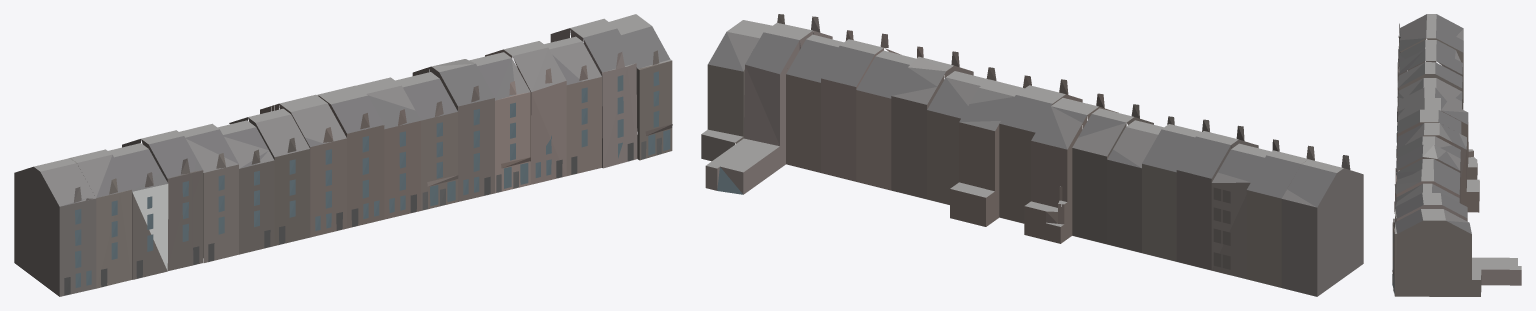
Rendered from chunk-face-hasebroek-2-46-r1.lod2.glb.
3 renders of one model, left to right at view 1: azimuth 30°, elevation 25°; view 2: azimuth 150°, elevation 25°; view 3: azimuth 270°, elevation 25°, orthographic. The views are drawn at different scales.
Parts seen in each view (by area): view 1: lod2; view 2: lod2; view 3: lod2.
Part boxes in pixels (x1,y1,x2,y2): lod2: [14, 14, 672, 296]; lod2: [701, 14, 1363, 296]; lod2: [1392, 14, 1521, 296].
Size of the model in its own units: 93.05 by 16.85 by 24.66.
